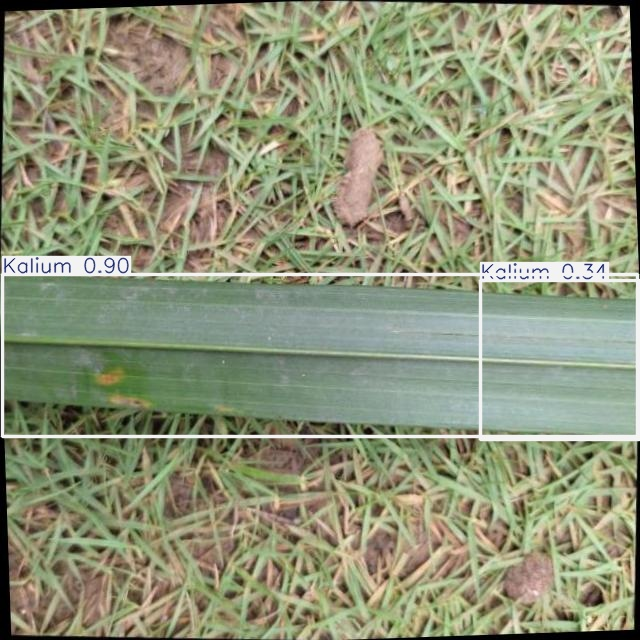Kalium: (2, 274, 637, 437), (481, 281, 639, 439)
